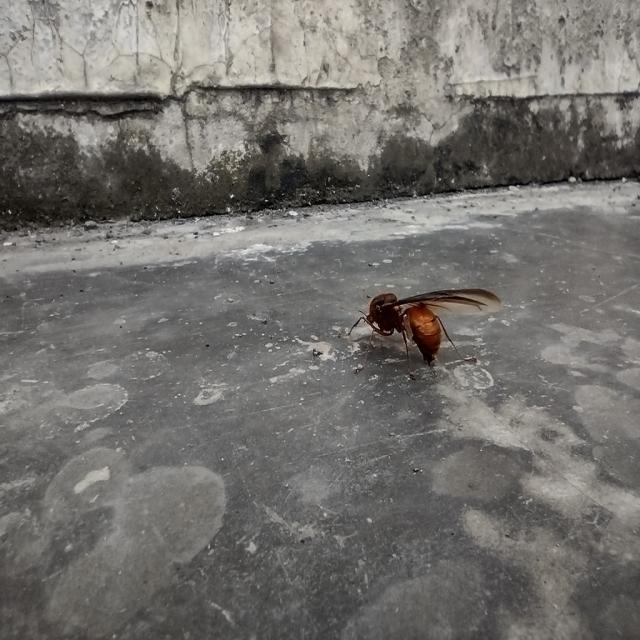Alive-Male-Alate: (339, 288, 503, 380)
